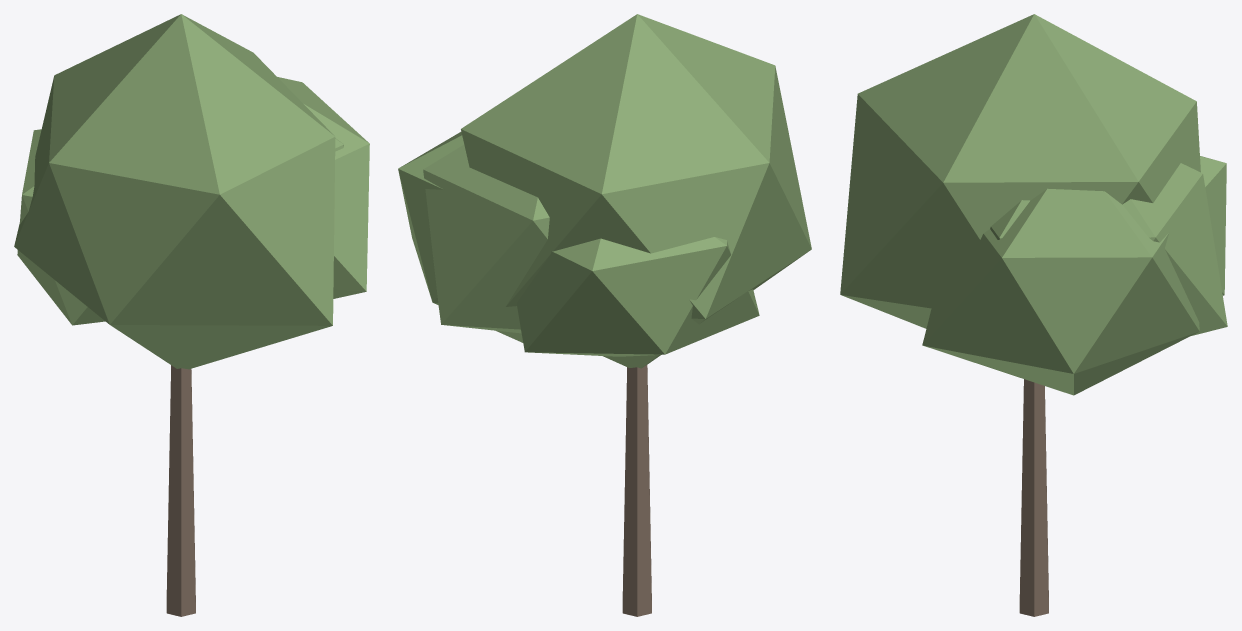
Rendered from HK_Tree_RoundLow.glb.
3 renders of one model, left to right at view 1: azimuth 30°, elevation 25°; view 2: azimuth 150°, elevation 25°; view 3: azimuth 270°, elevation 25°, orthographic.
Parts seen in each view (by area): view 1: HK_Tree_RoundLow; view 2: HK_Tree_RoundLow; view 3: HK_Tree_RoundLow.
Boxes of the visible parts, x1,y1,x2,y2 form: HK_Tree_RoundLow: [14, 14, 369, 616]; HK_Tree_RoundLow: [398, 14, 811, 616]; HK_Tree_RoundLow: [840, 14, 1227, 616].
Size of the model in its own units: 4.57 by 7.71 by 4.55.
